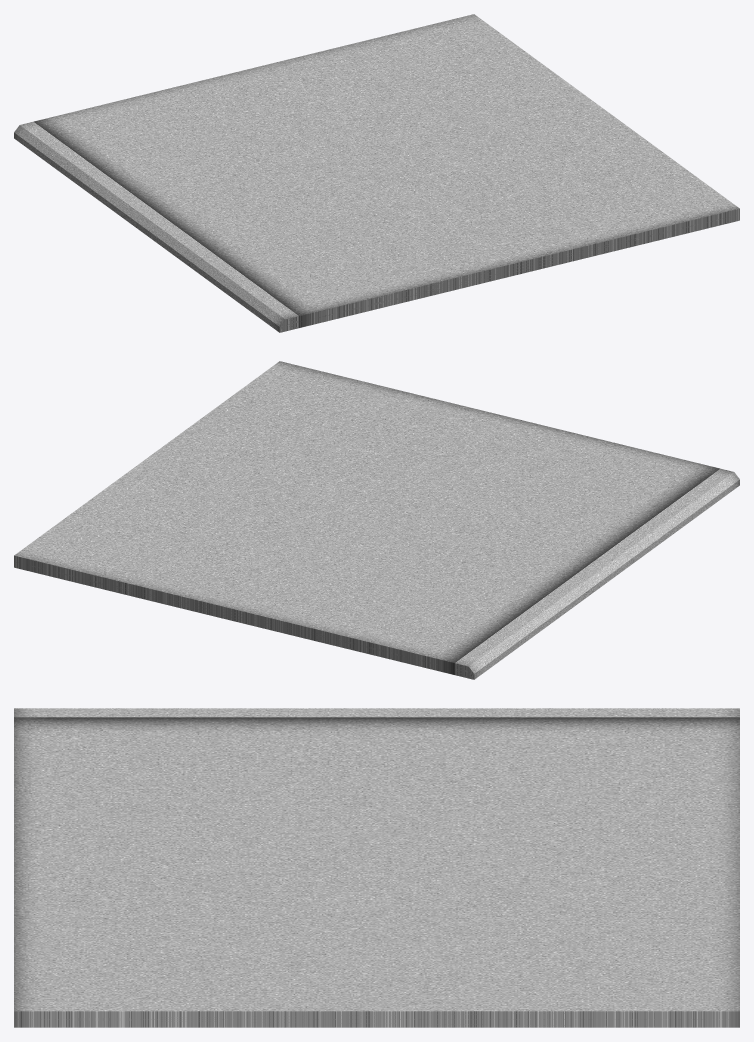
File: sidewalkLarge.fbx
3 views of the same model, one above another, from view 1: azimuth 30°, elevation 25°; view 2: azimuth 150°, elevation 25°; view 3: azimuth 270°, elevation 25° (orthographic). The views are drawn at different scales.
Visible parts, largest first — view 1: tileSidewalkGrass.002; view 2: tileSidewalkGrass.002; view 3: tileSidewalkGrass.002.
Boxes of the visible parts, bbox=[...] form: tileSidewalkGrass.002: bbox=[14, 14, 739, 332]; tileSidewalkGrass.002: bbox=[14, 361, 739, 679]; tileSidewalkGrass.002: bbox=[14, 708, 739, 1027].
Size of the model in its own units: 800 by 20 by 800.
Materials: 1 (1 with a texture image).
